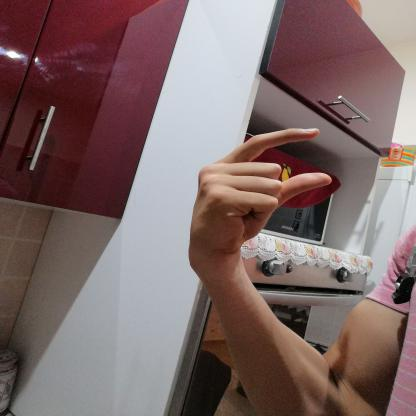DELL: (178, 117, 346, 267)
